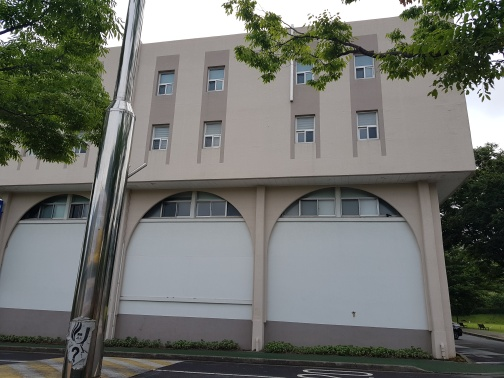Main Building of University: (8, 27, 484, 355), (148, 29, 394, 164), (136, 185, 414, 231)
